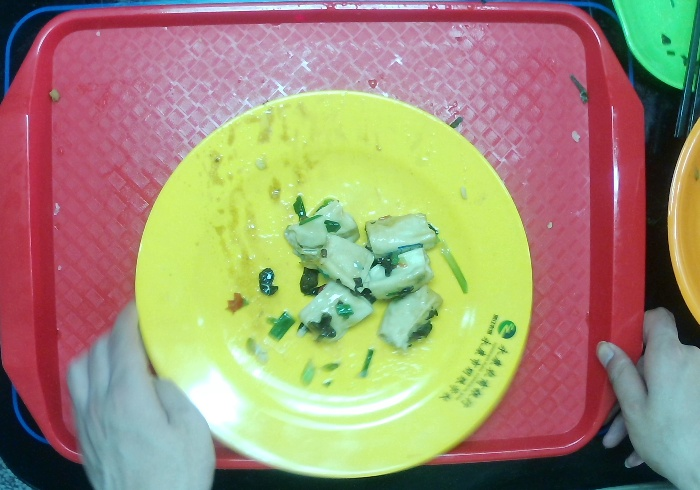YKMZ-Huang_Se_Mian_Pan: (130, 87, 538, 490)
